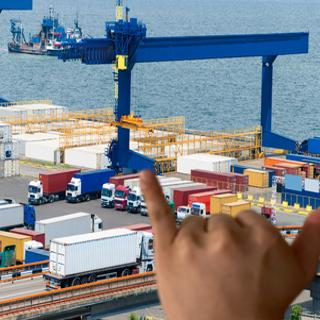HAVE: (131, 159, 320, 320)
